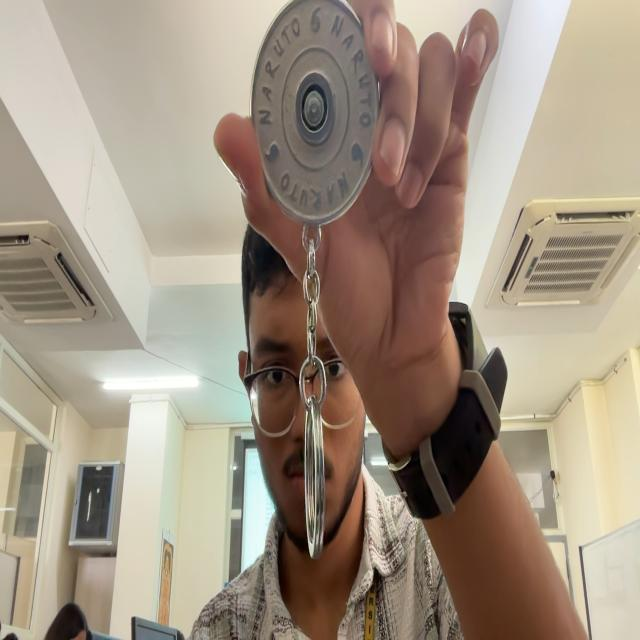dangerous: (250, 0, 379, 558)
